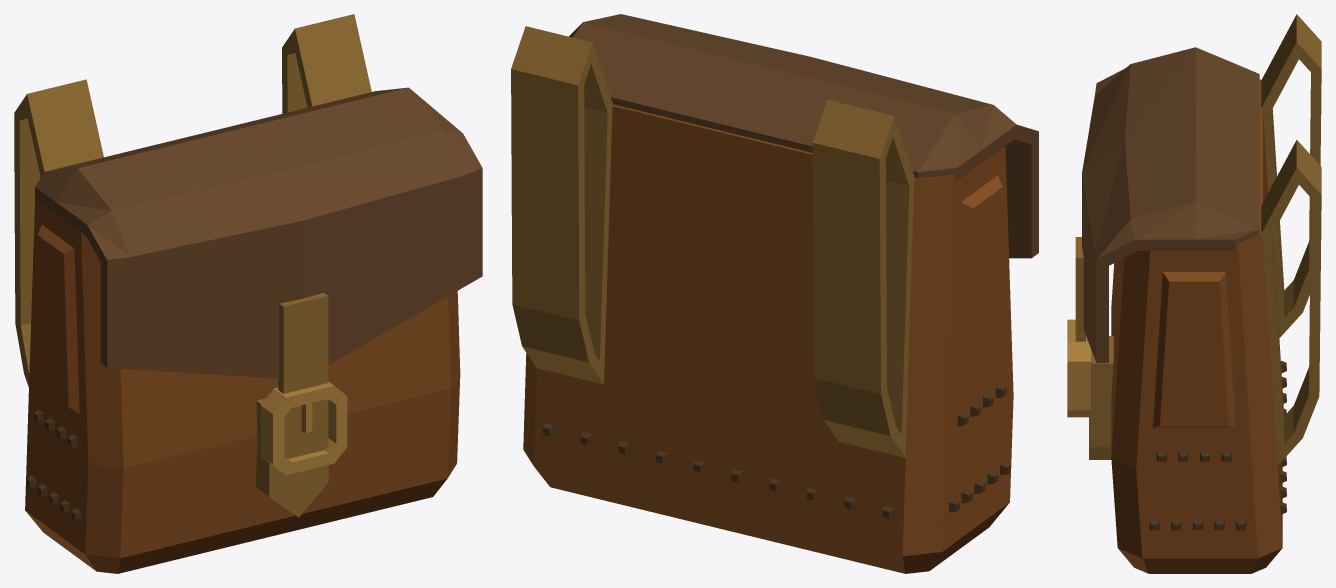
Rendered from leather-belt-satchel-5bb107.glb.
3 views of the same model, side by side, from view 1: azimuth 30°, elevation 25°; view 2: azimuth 150°, elevation 25°; view 3: azimuth 270°, elevation 25° (orthographic). The views are drawn at different scales.
Visible parts, largest first — view 1: satchel-body, flap-mesh; view 2: satchel-body, flap-mesh; view 3: satchel-body, flap-mesh.
Part boxes in pixels (left/top/right/bottom): satchel-body: left=14, top=14, right=460, bottom=573; flap-mesh: left=35, top=87, right=482, bottom=458; satchel-body: left=511, top=26, right=1013, bottom=573; flap-mesh: left=569, top=14, right=1038, bottom=258; satchel-body: left=1067, top=14, right=1321, bottom=573; flap-mesh: left=1075, top=47, right=1259, bottom=362.
Size of the model in its own units: 0.208 by 0.2156 by 0.1233.
